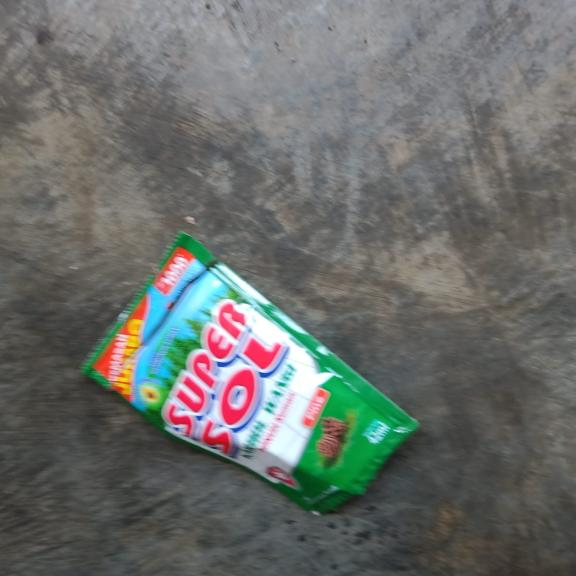Plastik: (78, 230, 419, 516)
